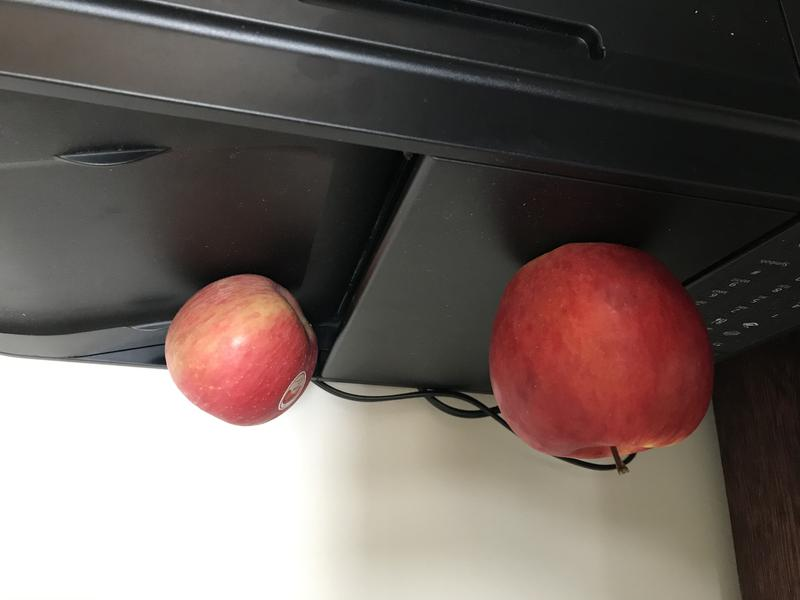red_apple: (471, 234, 724, 479), (156, 263, 324, 431)
